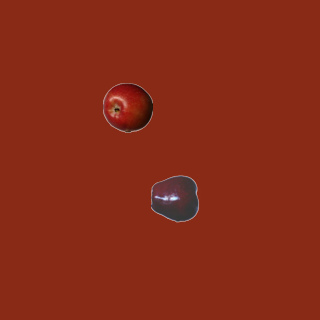Apple Braeburn: (102, 82, 152, 132)
Apple Red Delicious: (150, 173, 200, 223)
